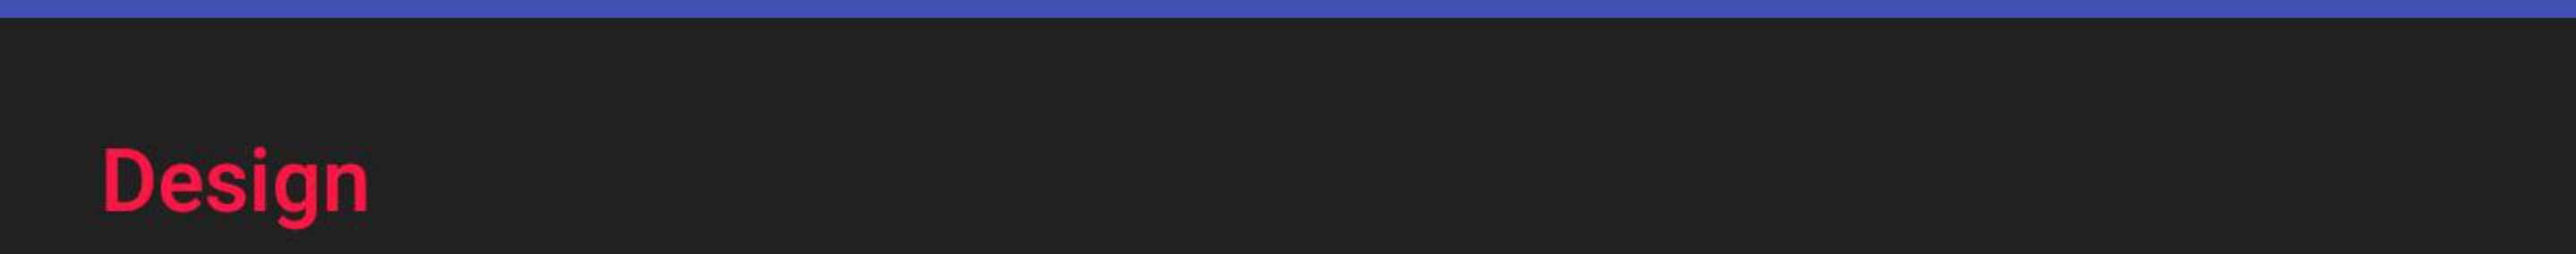TextView: (2, 2, 2574, 252)
